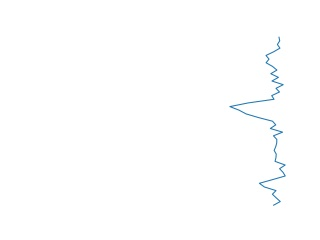interdistributaryEstuary: (227, 36, 291, 206)
